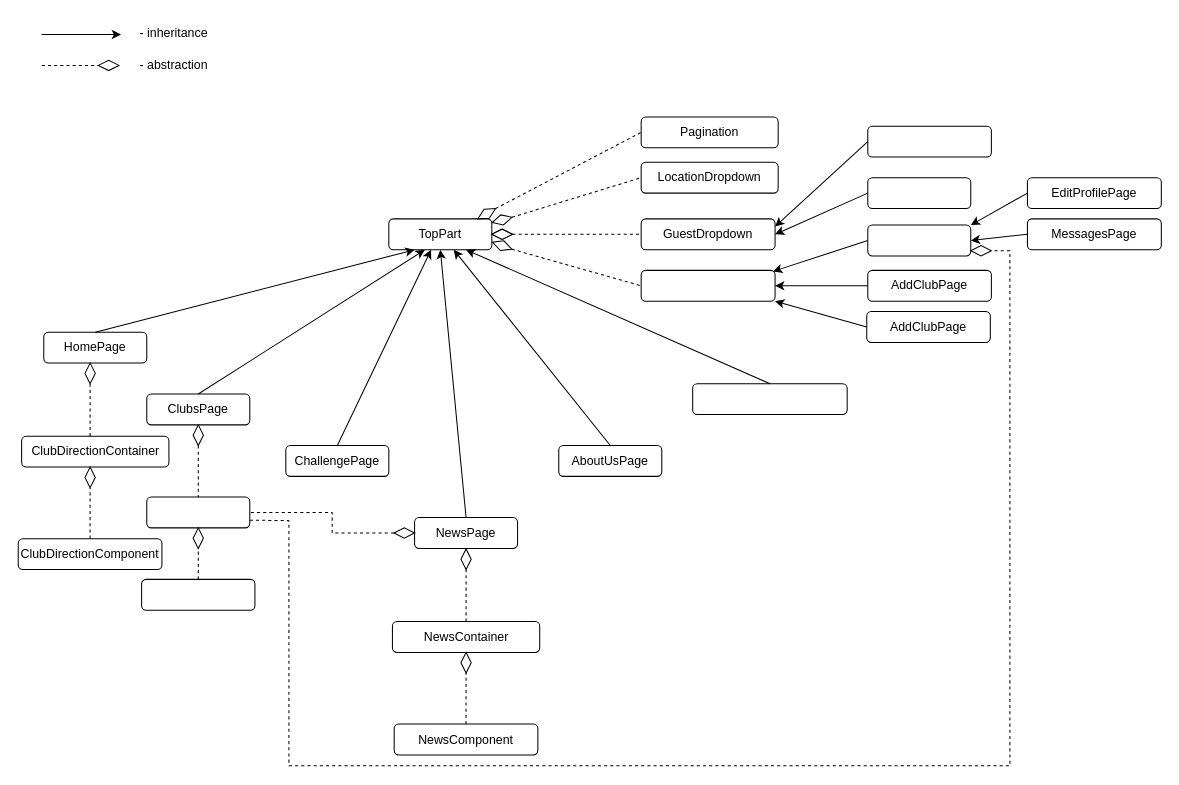
This 1179x785 diagram has some shape labels left out. The centre of each missing label's shape, as x and y in pixels:
"ClubComponent" belongs at point 198,594.
"ClubsContainer" belongs at point 198,512.
"LoggedDropdown" belongs at point 707,285.
"LoginPage" belongs at point 919,193.
"MyProfilePage" belongs at point 919,240.
"RegisterPage" belongs at point 929,141.
"ServicesInUkrainianPage" belongs at point 769,399.
